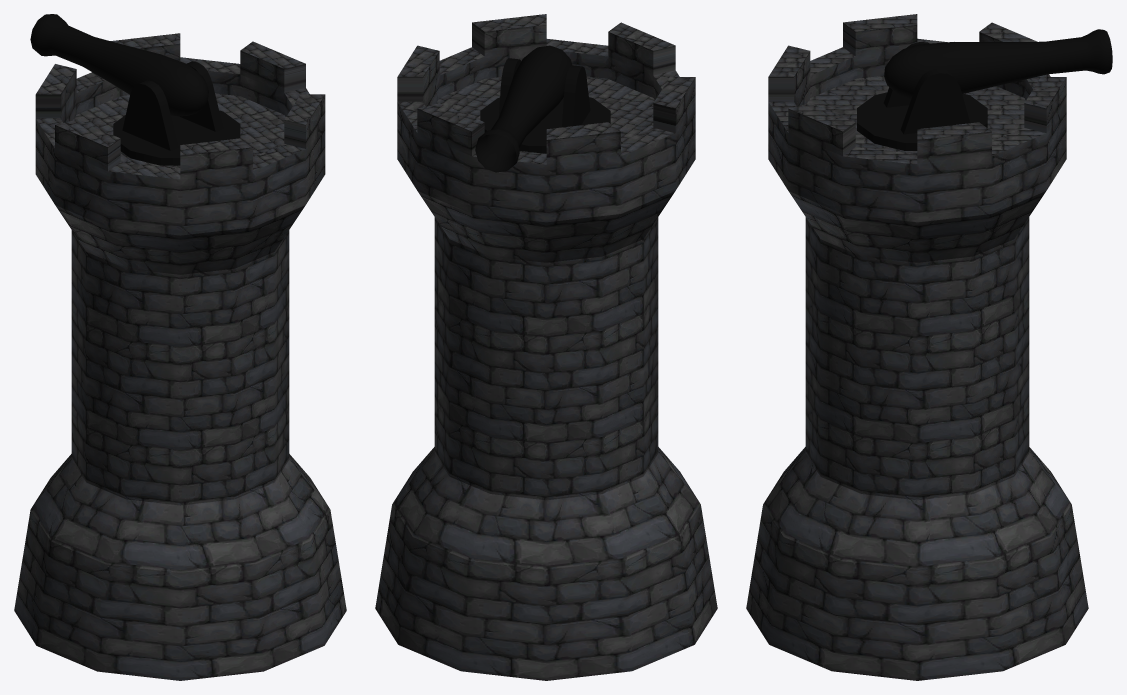
File: tower.FBX
3 renders of one model, left to right at view 1: azimuth 30°, elevation 25°; view 2: azimuth 150°, elevation 25°; view 3: azimuth 270°, elevation 25°, orthographic. The views are drawn at different scales.
Visible parts, largest first — view 1: Tube001, Line001, Line002, Cylinder002; view 2: Tube001, Line001, Line002, Cylinder002; view 3: Tube001, Line001, Line002, Cylinder002.
Part boxes in pixels (x1,y1,x2,y2): Tube001: (14, 33, 346, 680); Line001: (30, 14, 208, 116); Line002: (122, 61, 223, 150); Cylinder002: (113, 110, 240, 165); Tube001: (375, 14, 717, 680); Line001: (475, 45, 572, 172); Line002: (498, 58, 590, 127); Cylinder002: (480, 97, 610, 153); Tube001: (746, 14, 1088, 680); Line001: (884, 29, 1112, 98); Line002: (884, 42, 969, 134); Cylinder002: (857, 92, 987, 150).
Size of the model in its own units: 149 by 269 by 159.
